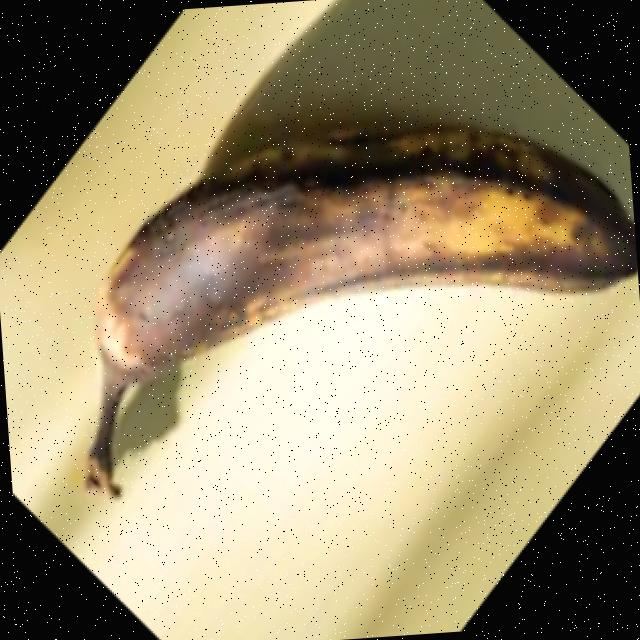overripe: (69, 98, 640, 445)
